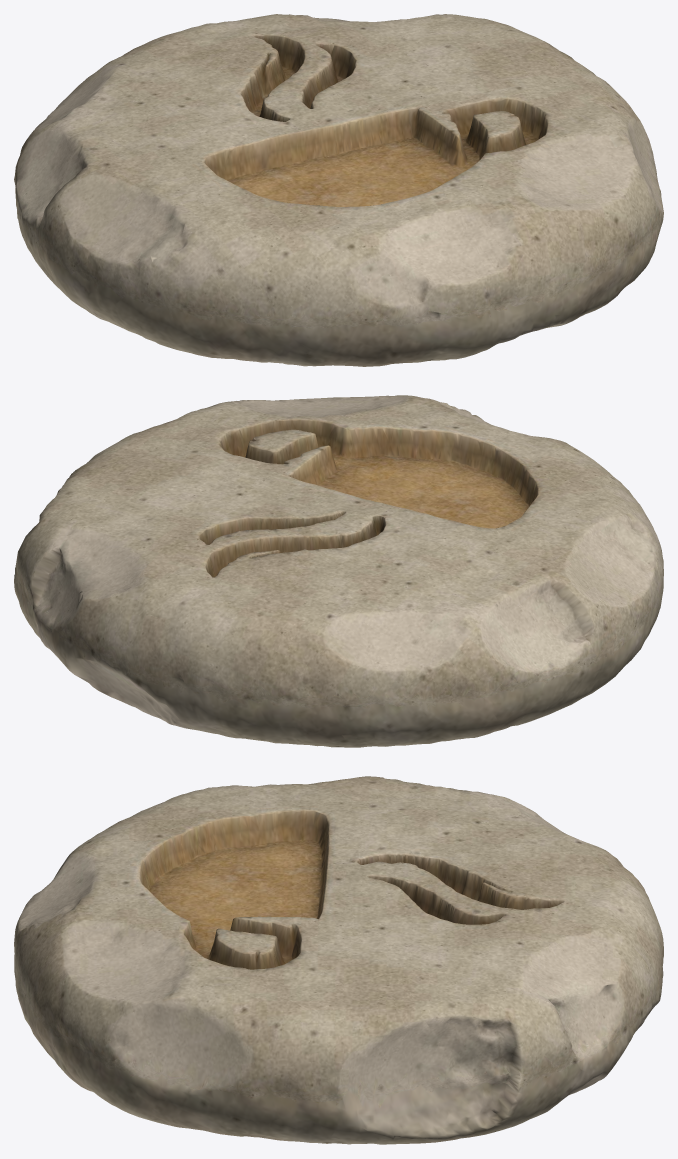
Rendered from opmet-coin_cup.glb.
3 views of the same model, one above another, from view 1: azimuth 30°, elevation 25°; view 2: azimuth 150°, elevation 25°; view 3: azimuth 270°, elevation 25° (orthographic). The views are drawn at different scales.
Parts seen in each view (by area): view 1: sandstone; view 2: sandstone; view 3: sandstone.
Boxes of the visible parts, left/top/right/bottom form: sandstone: left=14, top=14, right=663, bottom=366; sandstone: left=14, top=395, right=663, bottom=747; sandstone: left=14, top=776, right=663, bottom=1144.
Size of the model in its own units: 2 by 0.5106 by 1.97.
Materials: 1 (1 with a texture image).
